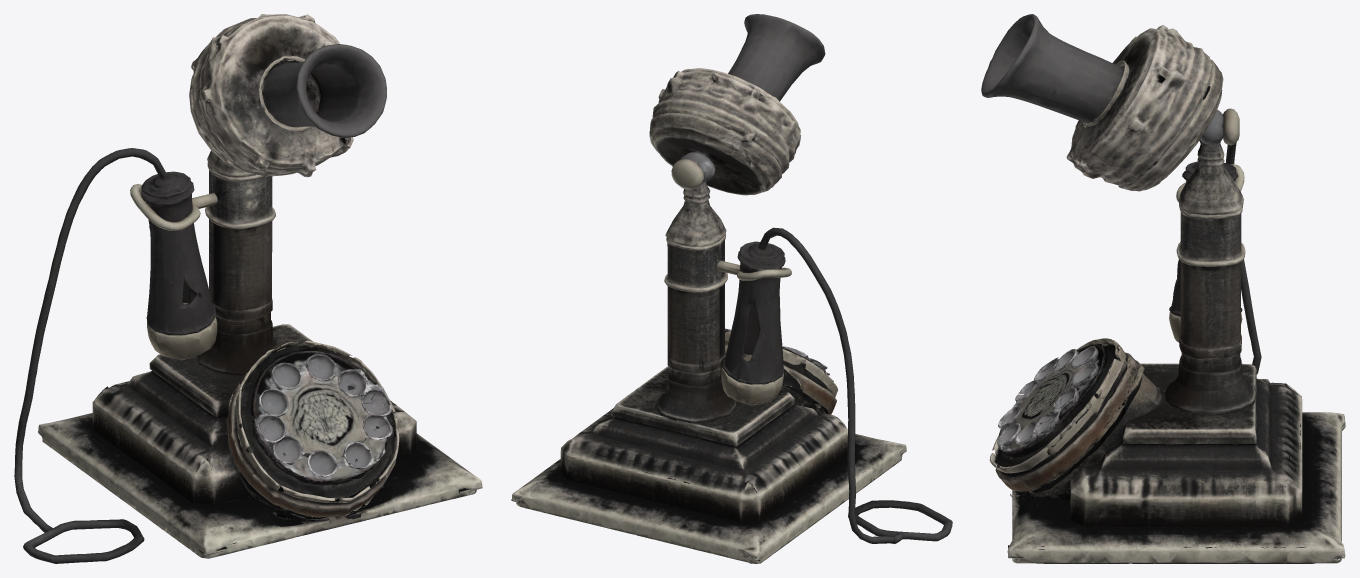
The model's file is original.glb.
The picture shows the model from 3 angles, left to right: view 1: azimuth 30°, elevation 25°; view 2: azimuth 150°, elevation 25°; view 3: azimuth 270°, elevation 25°; orthographic projection. The views are drawn at different scales.
Visible parts, largest first — view 1: world; view 2: world; view 3: world.
Boxes of the visible parts, x1=… form: world: x1=14, y1=14, x2=482, y2=563; world: x1=511, y1=14, x2=952, y2=563; world: x1=981, y1=14, x2=1345, y2=563.
Bounding box in the file's own units: 0.8337 × 0.9997 × 0.6723.
Materials: 1 (1 with a texture image).
